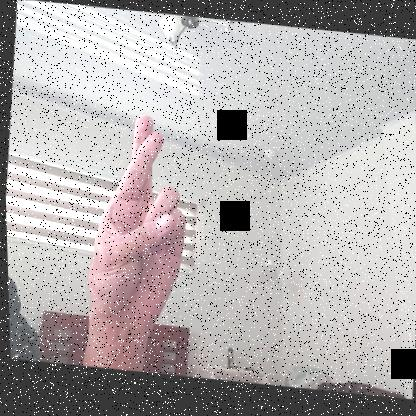R: (81, 110, 198, 332)
